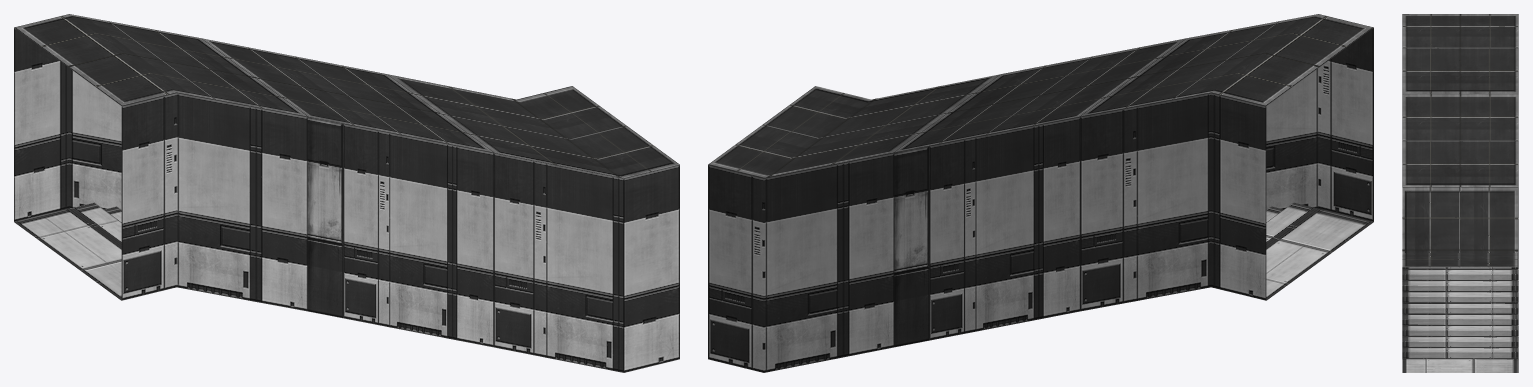
Rendered from StairWell1.fbx.
3 renders of one model, left to right at view 1: azimuth 30°, elevation 25°; view 2: azimuth 150°, elevation 25°; view 3: azimuth 270°, elevation 25°, orthographic. The views are drawn at different scales.
Parts seen in each view (by area): view 1: StairWell1; view 2: StairWell1; view 3: StairWell1.
Part boxes in pixels (bbox=[...]): StairWell1: bbox=[14, 14, 679, 372]; StairWell1: bbox=[708, 14, 1373, 372]; StairWell1: bbox=[1402, 14, 1518, 372].
Size of the model in its own units: 15 by 10 by 5.
